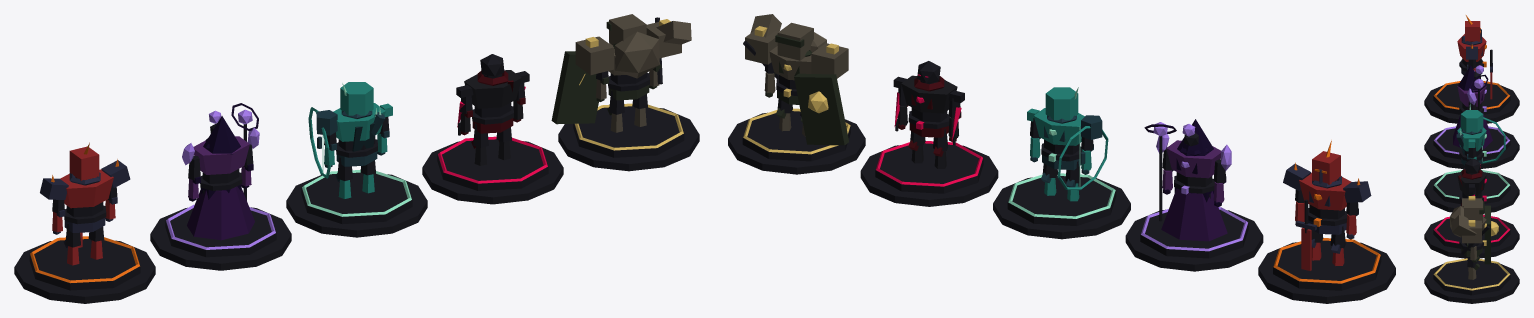
Rendered from all_heroes.glb.
The picture shows the model from 3 angles, left to right: view 1: azimuth 30°, elevation 25°; view 2: azimuth 150°, elevation 25°; view 3: azimuth 270°, elevation 25°; orthographic projection. The views are drawn at different scales.
Parts seen in each view (by area): view 1: Pedestal_Top_3.0, Pedestal_Top_0.0, Pedestal_Top_-6.0, Pedestal_Top_6.0, Pedestal_Base_-3.0, Pedestal_Base_3.0, Pedestal_Base_-6.0, Pedestal_Base_0.0, Cone.020, Pedestal_Base_6.0, Cube.061, Pedestal_Top_-3.0 (+21 smaller); view 2: Pedestal_Top_3.0, Pedestal_Top_0.0, Pedestal_Top_-6.0, Cube.061, Pedestal_Base_3.0, Pedestal_Base_-3.0, Pedestal_Base_-6.0, Pedestal_Base_0.0, Pedestal_Top_6.0, Pedestal_Base_6.0, Cone.020, Pedestal_Top_-3.0 (+20 smaller); view 3: Pedestal_Top_6.0, Pedestal_Base_6.0, Pedestal_Top_0.0, Pedestal_Top_-6.0, Pedestal_Base_-3.0, Pedestal_Base_3.0, Pedestal_Base_-6.0, Pedestal_Base_0.0, Pedestal_Top_-3.0, Pedestal_Top_3.0, Cylinder.013, Umbra_Chest (+35 smaller).
Boxes of the visible parts, <box> form: Pedestal_Top_3.0: <box>437,139,548,190</box>; Pedestal_Top_0.0: <box>301,172,412,224</box>; Pedestal_Top_-6.0: <box>29,239,140,290</box>; Pedestal_Top_6.0: <box>573,106,684,157</box>; Pedestal_Base_-3.0: <box>150,207,291,270</box>; Pedestal_Base_3.0: <box>422,141,563,204</box>; Pedestal_Base_-6.0: <box>14,240,155,303</box>; Pedestal_Base_0.0: <box>286,174,427,237</box>; Cone.020: <box>187,186,254,240</box>; Pedestal_Base_6.0: <box>558,108,699,171</box>; Cube.061: <box>551,51,598,124</box>; Pedestal_Top_-3.0: <box>165,208,276,257</box>; Pedestal_Top_3.0: <box>875,143,983,193</box>; Pedestal_Top_0.0: <box>1007,175,1116,225</box>; Pedestal_Top_-6.0: <box>1273,240,1381,290</box>; Cube.061: <box>794,73,848,145</box>; Pedestal_Base_3.0: <box>860,145,998,206</box>; Pedestal_Base_-3.0: <box>1125,209,1263,271</box>; Pedestal_Base_-6.0: <box>1258,242,1395,303</box>; Pedestal_Base_0.0: <box>993,177,1130,239</box>; Pedestal_Top_6.0: <box>742,111,850,161</box>; Pedestal_Base_6.0: <box>728,112,865,174</box>; Cone.020: <box>1161,188,1227,241</box>; Pedestal_Top_-3.0: <box>1140,209,1248,258</box>; Pedestal_Top_6.0: <box>1433,260,1510,295</box>; Pedestal_Base_6.0: <box>1424,264,1519,303</box>; Pedestal_Top_0.0: <box>1433,172,1510,204</box>; Pedestal_Top_-6.0: <box>1433,83,1510,114</box>; Pedestal_Base_-3.0: <box>1424,130,1519,168</box>; Pedestal_Base_3.0: <box>1424,219,1519,258</box>; Pedestal_Base_-6.0: <box>1424,85,1519,123</box>; Pedestal_Base_0.0: <box>1424,174,1519,212</box>; Pedestal_Top_-3.0: <box>1433,128,1510,159</box>; Pedestal_Top_3.0: <box>1433,217,1510,248</box>; Cylinder.013: <box>1460,110,1483,132</box>; Umbra_Chest: <box>1457,167,1486,195</box>.
Bounding box in the file's own units: 14.7 × 2.86 × 2.7.
